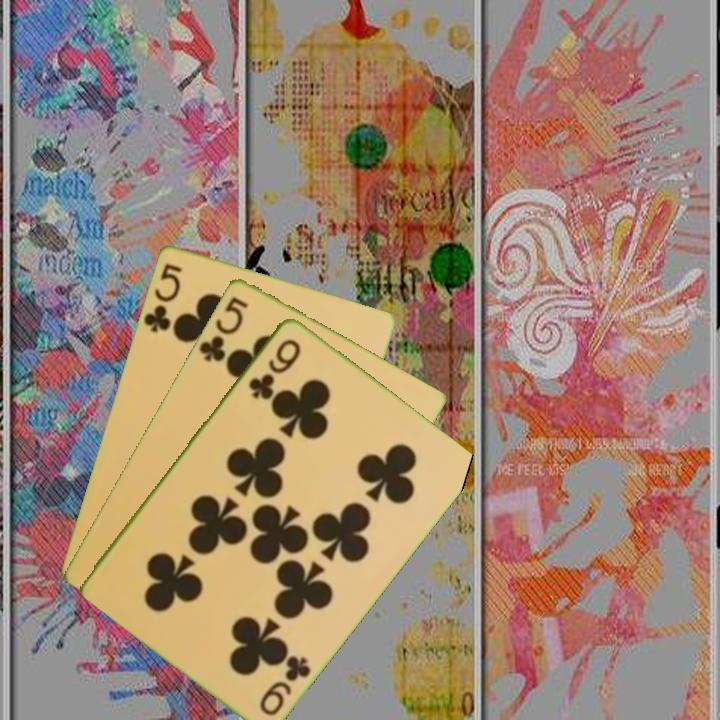5c: (195, 292, 251, 365), (140, 259, 185, 335)
9c: (245, 334, 304, 402), (256, 651, 314, 718)
